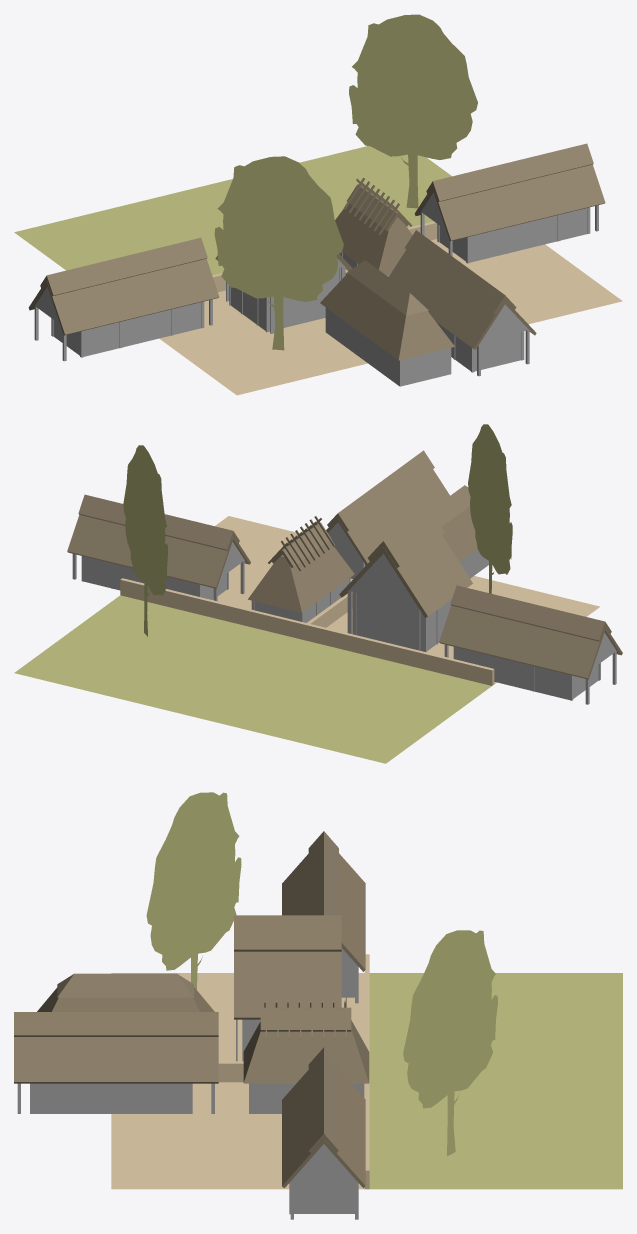
3 views of the same model, one above another, from view 1: azimuth 30°, elevation 25°; view 2: azimuth 150°, elevation 25°; view 3: azimuth 270°, elevation 25° (orthographic). The views are drawn at different scales.
Parts seen in each view (by area): view 1: ww11; view 2: ww11; view 3: ww11.
Part boxes in pixels (x1,y1,x2,y2): ww11: (14, 14, 622, 395); ww11: (14, 424, 622, 763); ww11: (14, 792, 622, 1219).
Size of the model in its own units: 42 by 14.41 by 35.7.
